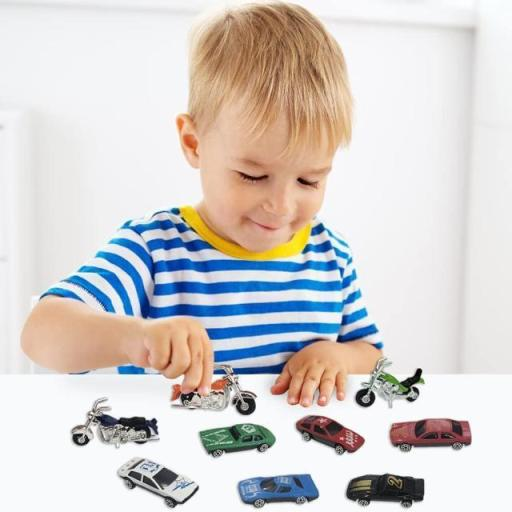baby: (22, 2, 381, 406)
